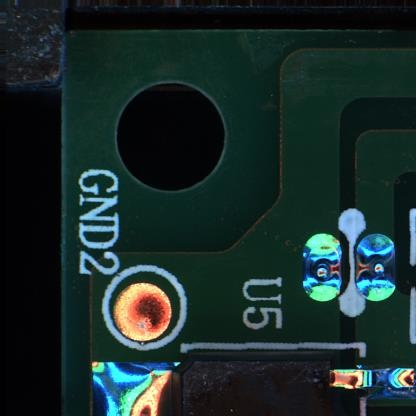spot: (112, 282, 172, 343), (355, 232, 397, 303), (301, 232, 342, 303)
